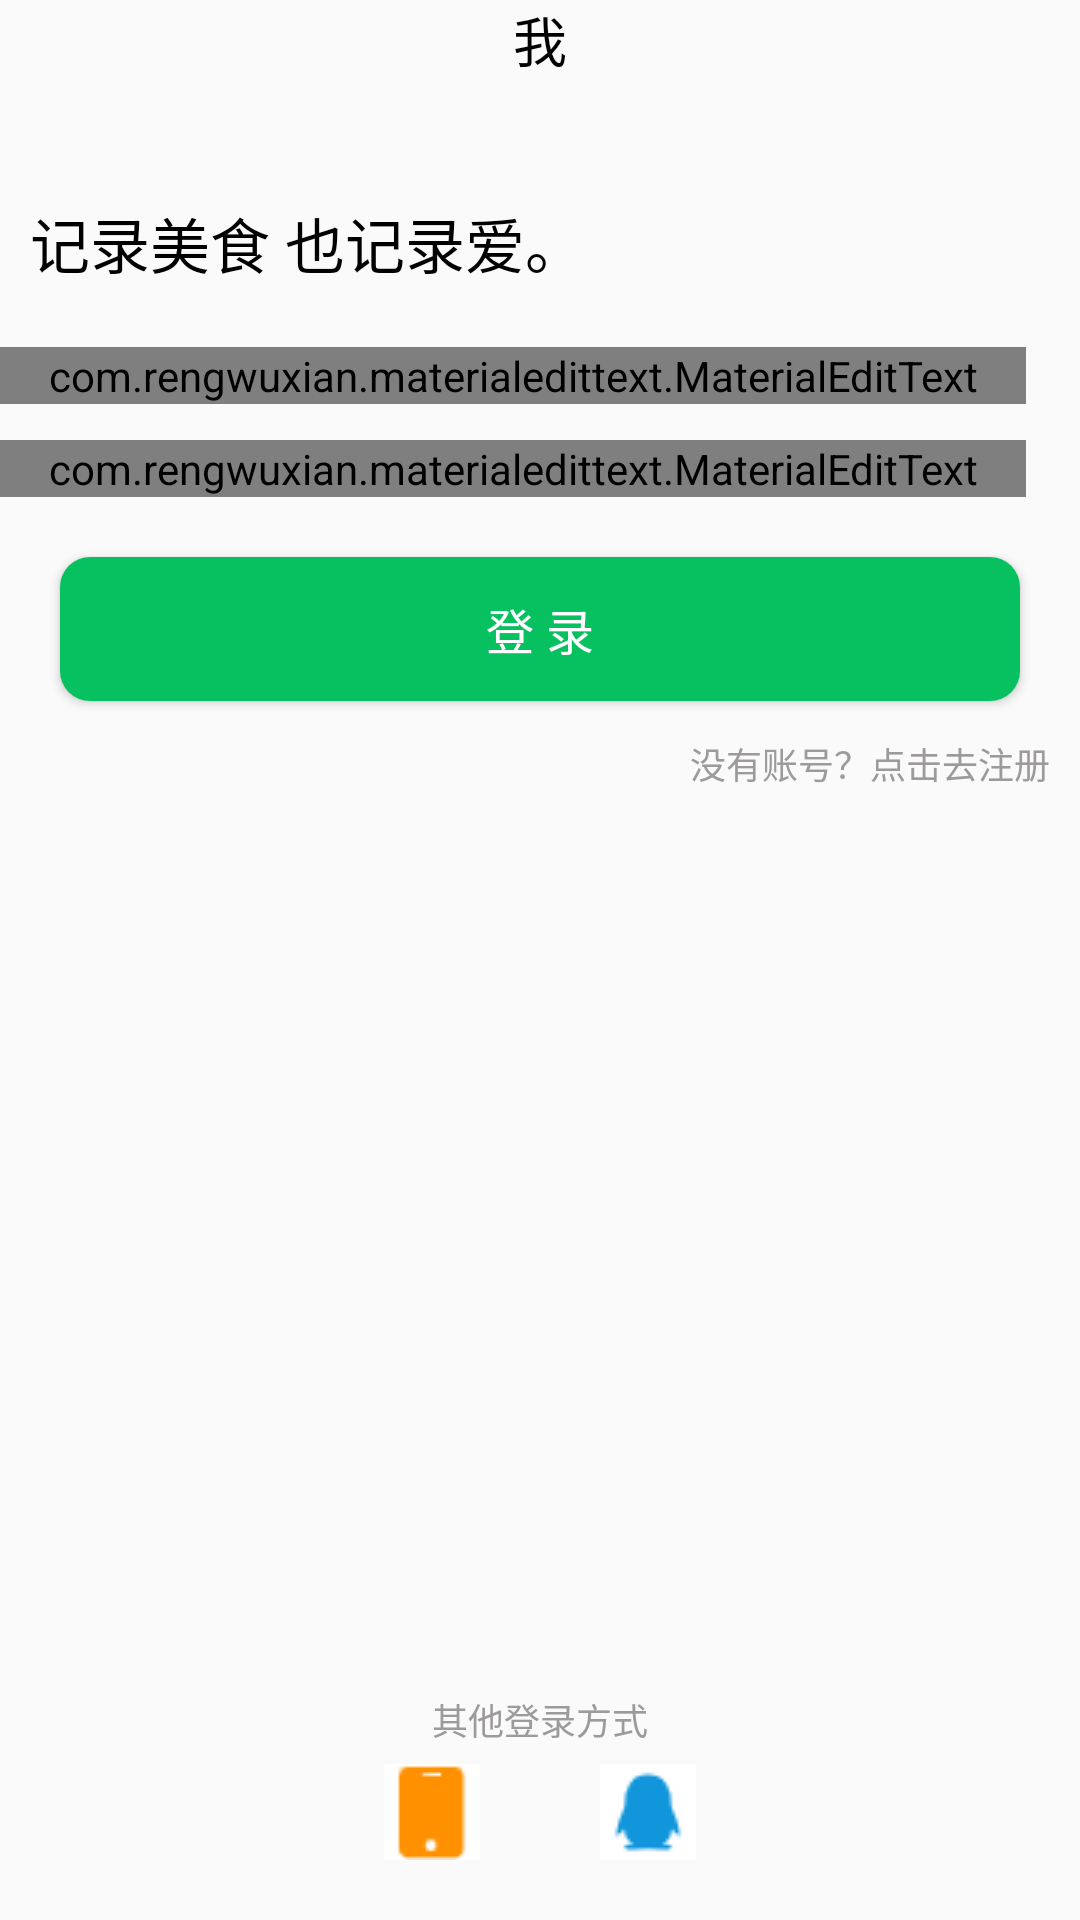

Where icons sit on this 1080x1920 app screen, as (x1, y1, x2, y2):
phone: (398, 1766, 466, 1860)
